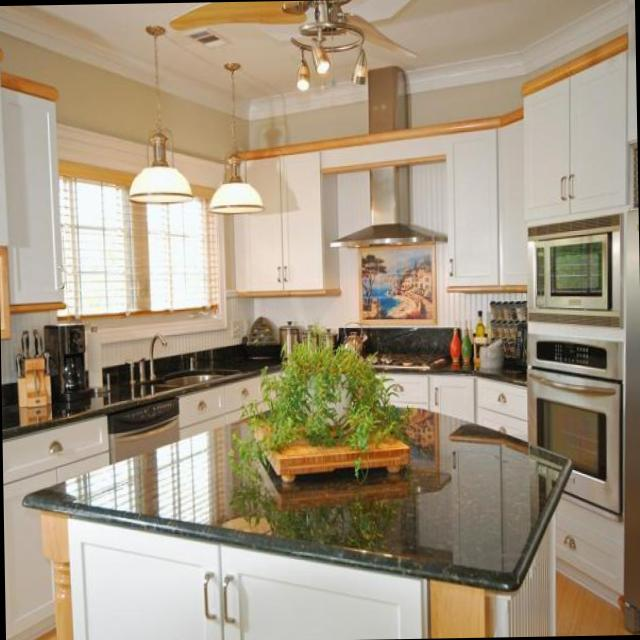cupboard: (67, 506, 426, 640), (1, 412, 114, 640), (520, 33, 633, 226), (229, 144, 340, 298), (1, 68, 66, 312), (444, 112, 529, 291)
faucet: (148, 332, 168, 380)
indoor-plant: (226, 321, 420, 525)
lamps: (205, 61, 265, 214)
table: (20, 394, 575, 640)
window: (57, 160, 223, 319)
